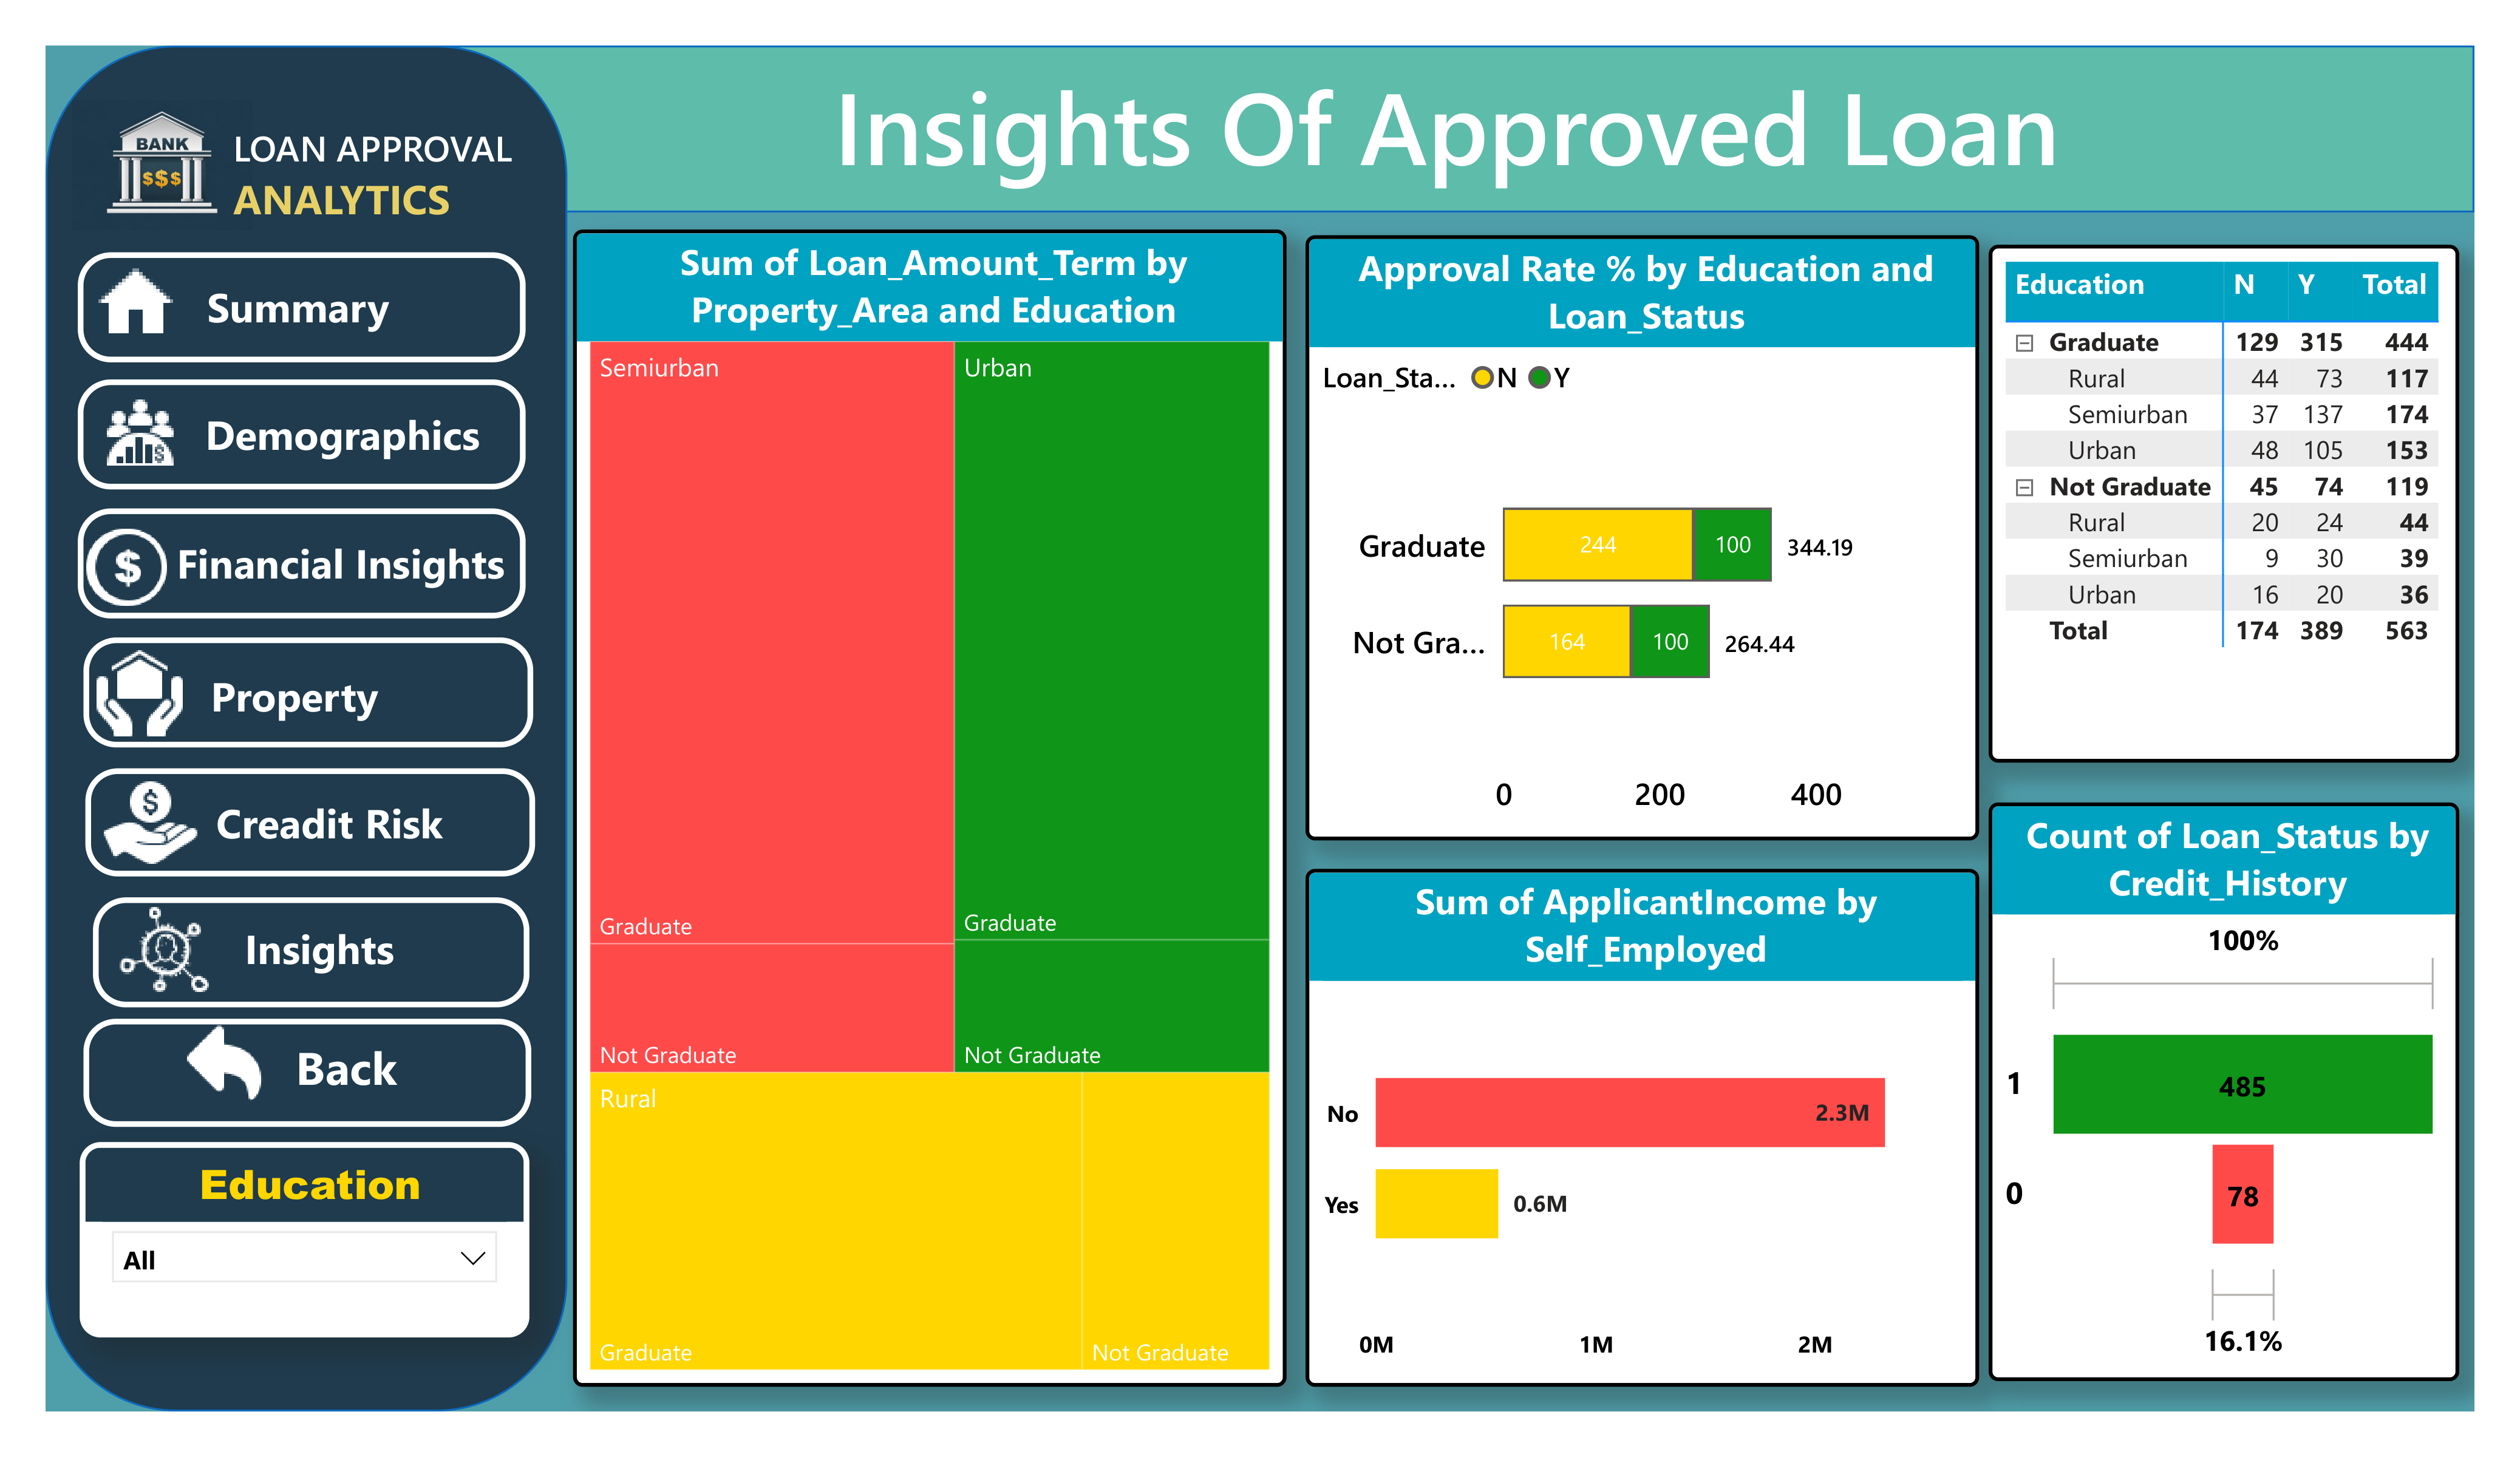

What the dashboard file says about the page in this screenshot:
{"tool":"powerbi","page":{"name":"Insights","canvas":[1280,720],"ordinal":5},"visuals":[{"type":"shape","box":[78.9,0,1201.1,88],"z":0},{"type":"textbox","box":[197.2,0,1082.8,88],"z":1000},{"type":"shape","box":[0,0,274.5,720.4],"z":2000},{"type":"image","box":[9.1,3,104.6,119.8],"z":3000},{"type":"textbox","box":[94,36.4,172.9,63.7],"z":4000},{"type":"actionButton","box":[16.7,109.2,236.6,57.6],"z":5000},{"type":"image","box":[21.2,106.2,53.1,57.6],"z":6000},{"type":"textbox","box":[80.4,118.3,130.4,45.5],"z":7000},{"type":"actionButton","box":[16.7,175.9,236.6,57.6],"z":8000},{"type":"image","box":[19.7,179,60.7,50],"z":9000},{"type":"textbox","box":[78.9,185,159.2,44],"z":10000},{"type":"actionButton","box":[16.7,244.2,236.6,57.6],"z":11000},{"type":"image","box":[15.2,245.7,56.1,57.6],"z":12000},{"type":"textbox","box":[63.7,253.3,189.6,48.5],"z":13000},{"type":"slicer","title":"Education","fields":{"Values":["l_approved.Education"]},"box":[18.2,577.8,236.6,103.1],"z":14000},{"type":"actionButton","box":[24.9,449.3,230.5,57.6],"z":15000},{"type":"textbox","box":[100.1,456.5,116.8,40.9],"z":16000},{"type":"image","box":[30.3,445.9,65.2,62.2],"z":17000},{"type":"actionButton","box":[19.7,512.6,236.6,57.6],"z":18000},{"type":"image","box":[62.2,505,63.7,63.7],"z":19000},{"type":"textbox","box":[127.4,517.2,104.6,47],"z":20000},{"type":"actionButton","box":[19.7,312.4,236.6,57.6],"z":20006,"group":"g1"},{"type":"textbox","box":[81.9,323,150.1,37.9],"z":20011,"group":"g1"},{"type":"treemap","fields":{"Group":["l_approved.Property_Area"],"Details":["l_approved.Education"],"Values":["Sum(l_approved.Loan_Amount_Term)"]},"box":[277.5,97.1,376.1,609.7],"z":21000},{"type":"barChart","fields":{"Category":["l_approved.Education"],"Y":["l_approved.Approval Rate %"],"Series":["l_approved.Loan_Status"]},"box":[664.3,100.1,354.9,318.5],"z":22000},{"type":"clusteredBarChart","fields":{"Category":["l_approved.Self_Employed"],"Y":["Sum(l_approved.ApplicantIncome)"]},"box":[664,434,355,273],"z":23000},{"type":"pivotTable","fields":{"Rows":["l_approved.Education","l_approved.Property_Area"],"Columns":["l_approved.Loan_Status"],"Values":["CountNonNull(l_approved.Loan_ID)"]},"box":[1023.7,104.6,248.7,273],"z":24000},{"type":"funnel","fields":{"Category":["l_approved.Credit_History"],"Y":["CountNonNull(l_approved.Loan_Status)"]},"box":[1023.7,398.9,248.7,304.8],"z":25000},{"type":"actionButton","box":[21.2,380.7,236.6,57.6],"z":26000},{"type":"image","box":[19.7,309.4,59.1,63.7],"z":27000},{"type":"image","box":[25.8,376.1,59.1,66.7],"z":28000},{"type":"textbox","box":[84.9,389.8,175.9,37.9],"z":29000},{"type":"group","id":"g1","title":"Group 1","box":[19.7,312.4,236.6,57.6],"z":30000}]}

Visuals, with their boxes on the page's 1280x720 design canvas (x1, y1, x2, y2). These are canvas units, not pixel positions in the 2520x1457 screenshot, which may show the page scaled, cropped or inside an application window:
shape: 79,0,1280,88
textbox: 197,0,1280,88
shape: 0,0,274,720
image: 9,3,114,123
textbox: 94,36,267,100
actionButton: 17,109,253,167
image: 21,106,74,164
textbox: 80,118,211,164
actionButton: 17,176,253,234
image: 20,179,80,229
textbox: 79,185,238,229
actionButton: 17,244,253,302
image: 15,246,71,303
textbox: 64,253,253,302
"Education" slicer: 18,578,255,681
actionButton: 25,449,255,507
textbox: 100,456,217,497
image: 30,446,96,508
actionButton: 20,513,256,570
image: 62,505,126,569
textbox: 127,517,232,564
actionButton: 20,312,256,370
textbox: 82,323,232,361
treemap - l_approved.Property_Area x l_approved.Education: 278,97,654,707
barChart - l_approved.Education x l_approved.Approval Rate %: 664,100,1019,419
clusteredBarChart - l_approved.Self_Employed x Sum(l_approved.ApplicantIncome): 664,434,1019,707
pivotTable - l_approved.Education x l_approved.Property_Area: 1024,105,1272,378
funnel - l_approved.Credit_History x CountNonNull(l_approved.Loan_Status): 1024,399,1272,704
actionButton: 21,381,258,438
image: 20,309,79,373
image: 26,376,85,443
textbox: 85,390,261,428
"Group 1" group: 20,312,256,370
